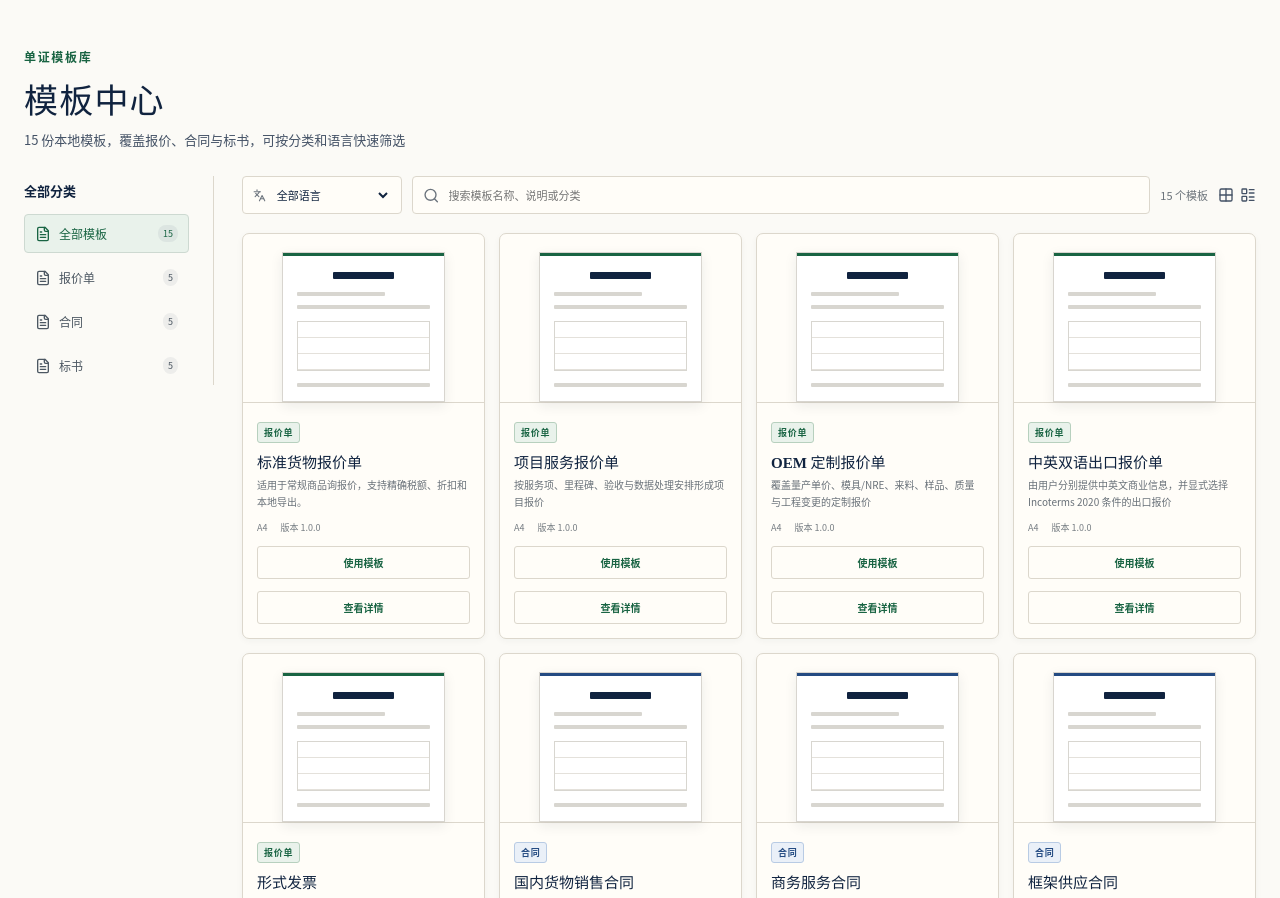
Test: 15-template catalogue › announces a useful empty result without removing keyboard-operable controls
The image size is (1280, 898).
In the search field labelled "搜索模板": [793, 195] box x1=446 y1=186 x2=1139 y2=204, type "不存在的模板关键词"
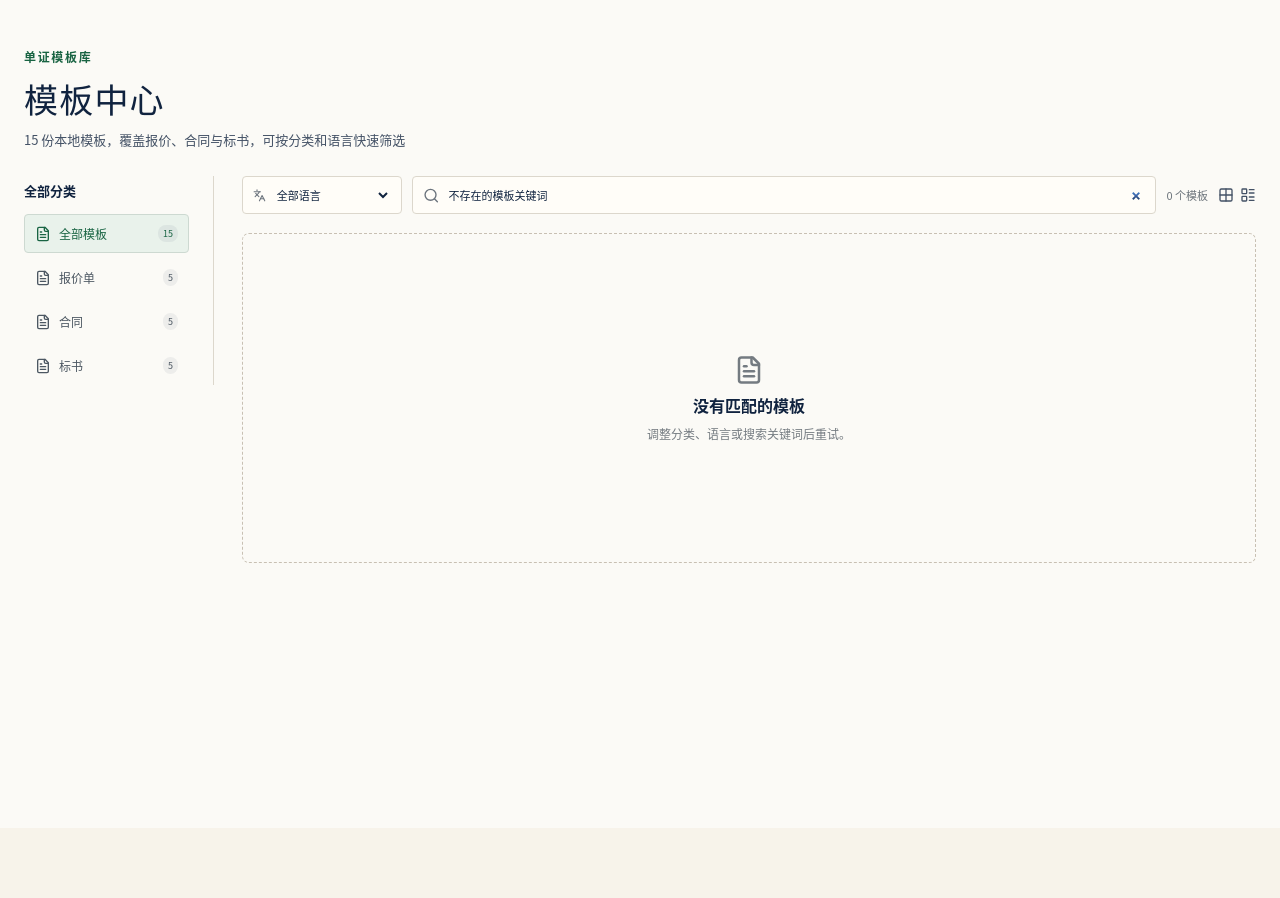
Check: the button "全部模板 15" is enabled, box x1=24 y1=214 x2=189 y2=253
Check: the text "没有匹配的模板" is shown, box x1=693 y1=392 x2=805 y2=416
Check: the text "0 个模板" is shown, box x1=1166 y1=187 x2=1208 y2=203
